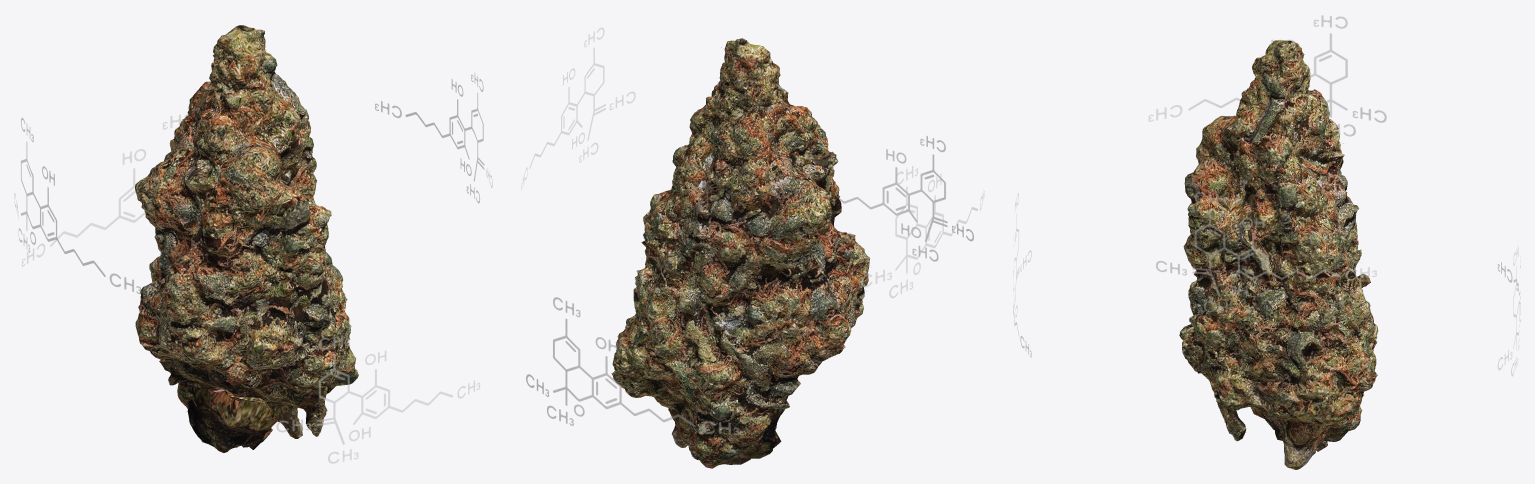
Rendered from midnighttokers.glb.
3 views of the same model, side by side, from view 1: azimuth 30°, elevation 25°; view 2: azimuth 150°, elevation 25°; view 3: azimuth 270°, elevation 25° (orthographic). The views are drawn at different scales.
Parts seen in each view (by area): view 1: Alien_ATH_0, CBD, THC.001, CBD.001, THC; view 2: Alien_ATH_0, THC, CBD, THC.001, CBD.001; view 3: Alien_ATH_0, CBD.001, THC.001.
Part boxes in pixels (x1,y1,x2,y2): Alien_ATH_0: (135,25,358,452); CBD: (276,335,479,463); THC.001: (14,118,141,293); CBD.001: (375,73,492,203); THC: (21,113,188,266); Alien_ATH_0: (611,38,869,468); THC: (526,297,739,434); CBD: (839,136,973,261); THC.001: (861,166,984,298); CBD.001: (521,27,635,189); Alien_ATH_0: (1179,40,1378,469); CBD.001: (1156,192,1376,312); THC.001: (1148,15,1386,136).
Bounding box in the file's own units: 0.8157 × 0.8514 × 0.9704.
4 materials, 3 textured.
